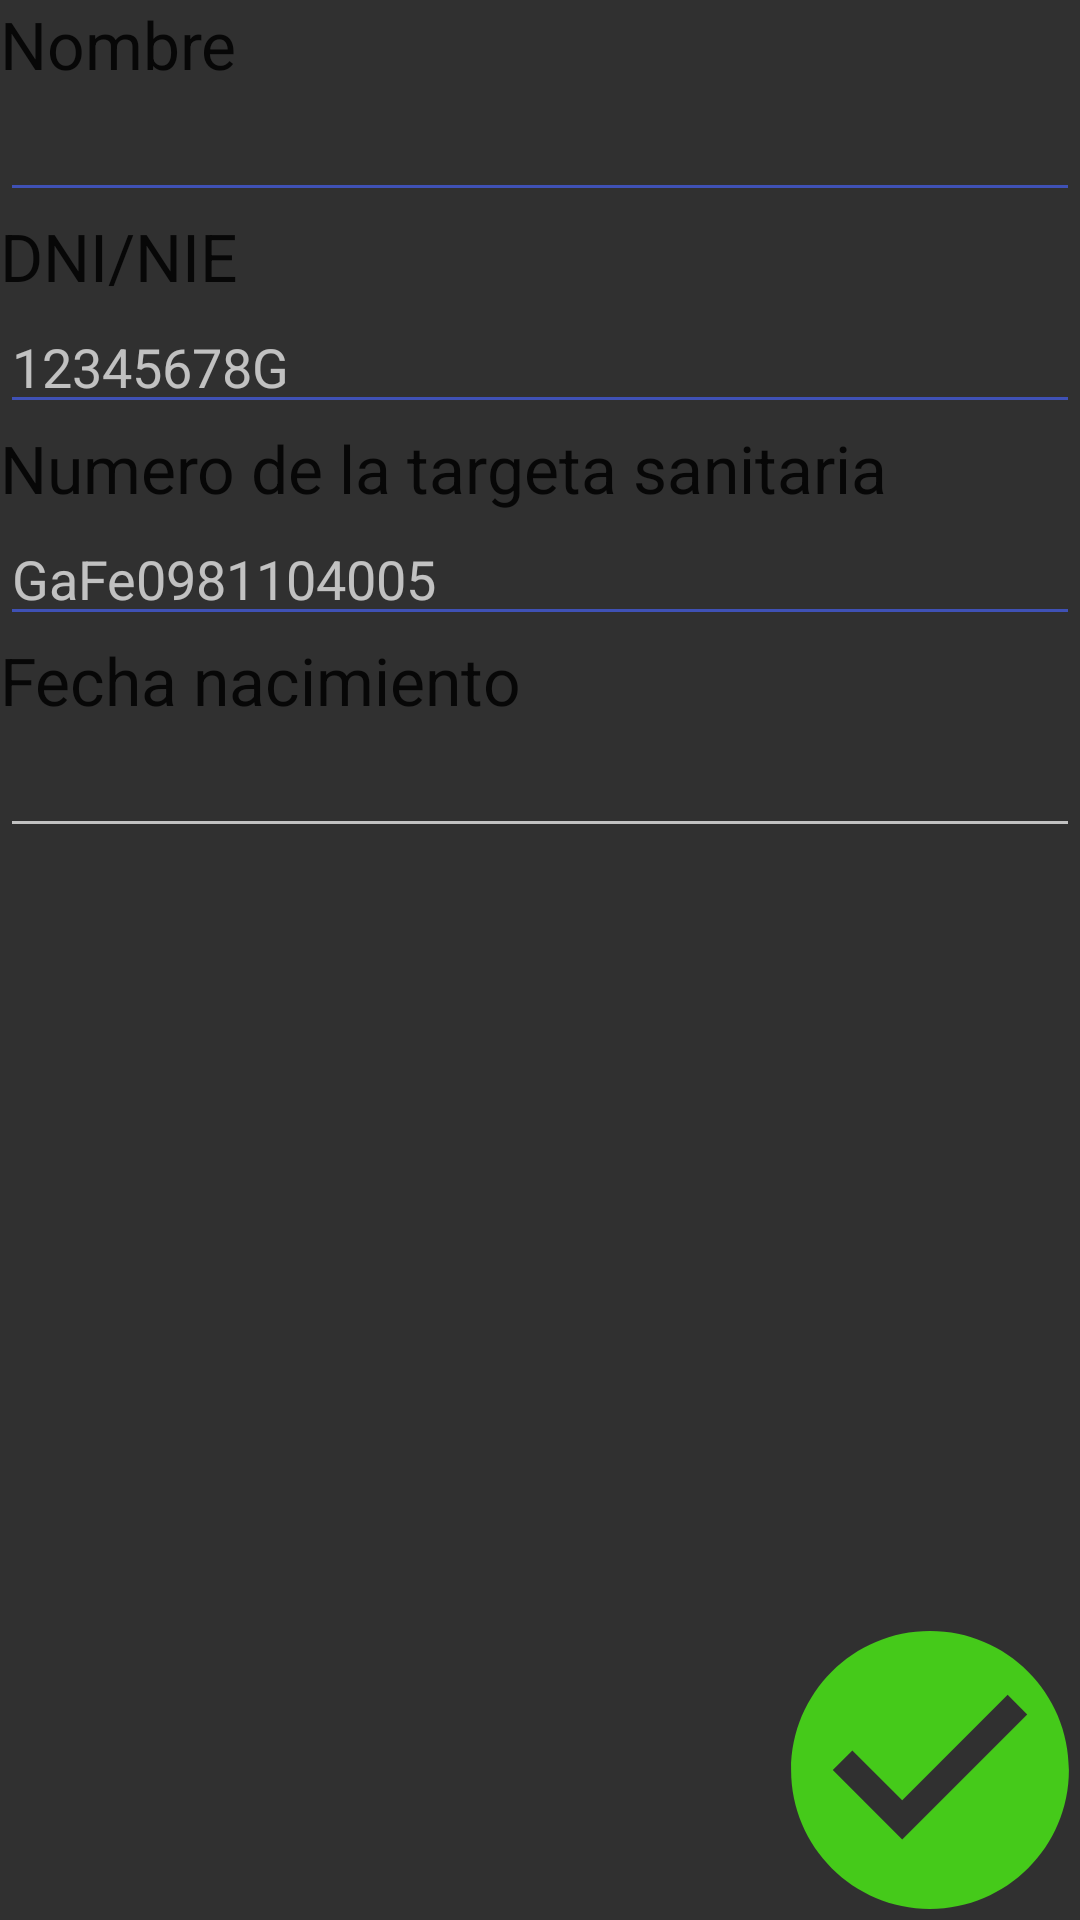

Icon click points for this 1080×1920 phone screenshot, format (x,y):
save: (930,1770)
